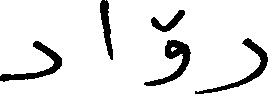ا: (97, 0, 111, 60)
د: (0, 38, 61, 81)
ر: (194, 35, 266, 92)
و: (142, 7, 189, 86)
